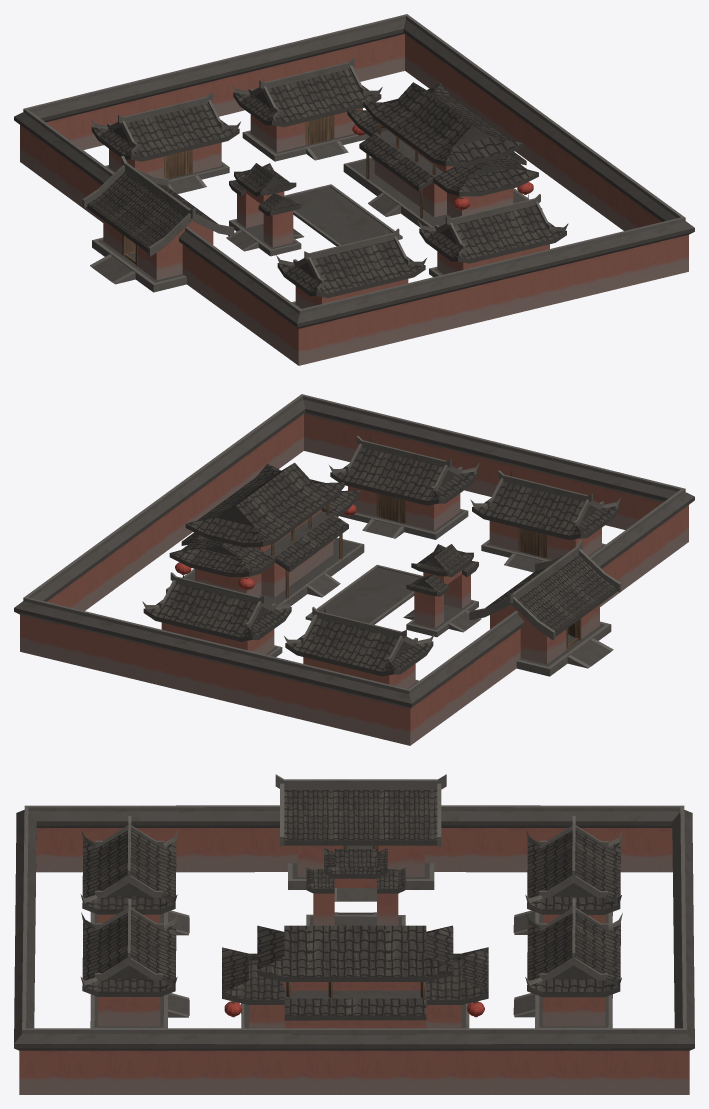
File: MinJu01.fbx
3 renders of one model, top to bottom at view 1: azimuth 30°, elevation 25°; view 2: azimuth 150°, elevation 25°; view 3: azimuth 270°, elevation 25°, orthographic. The views are drawn at different scales.
Parts seen in each view (by area): view 1: minju01; view 2: minju01; view 3: minju01.
Boxes of the visible parts, x1,y1,x2,y2 form: minju01: (14,14,694,365); minju01: (14,394,694,745); minju01: (14,774,694,1094).
Bounding box in the file's own units: 1225 × 237 × 1352.
